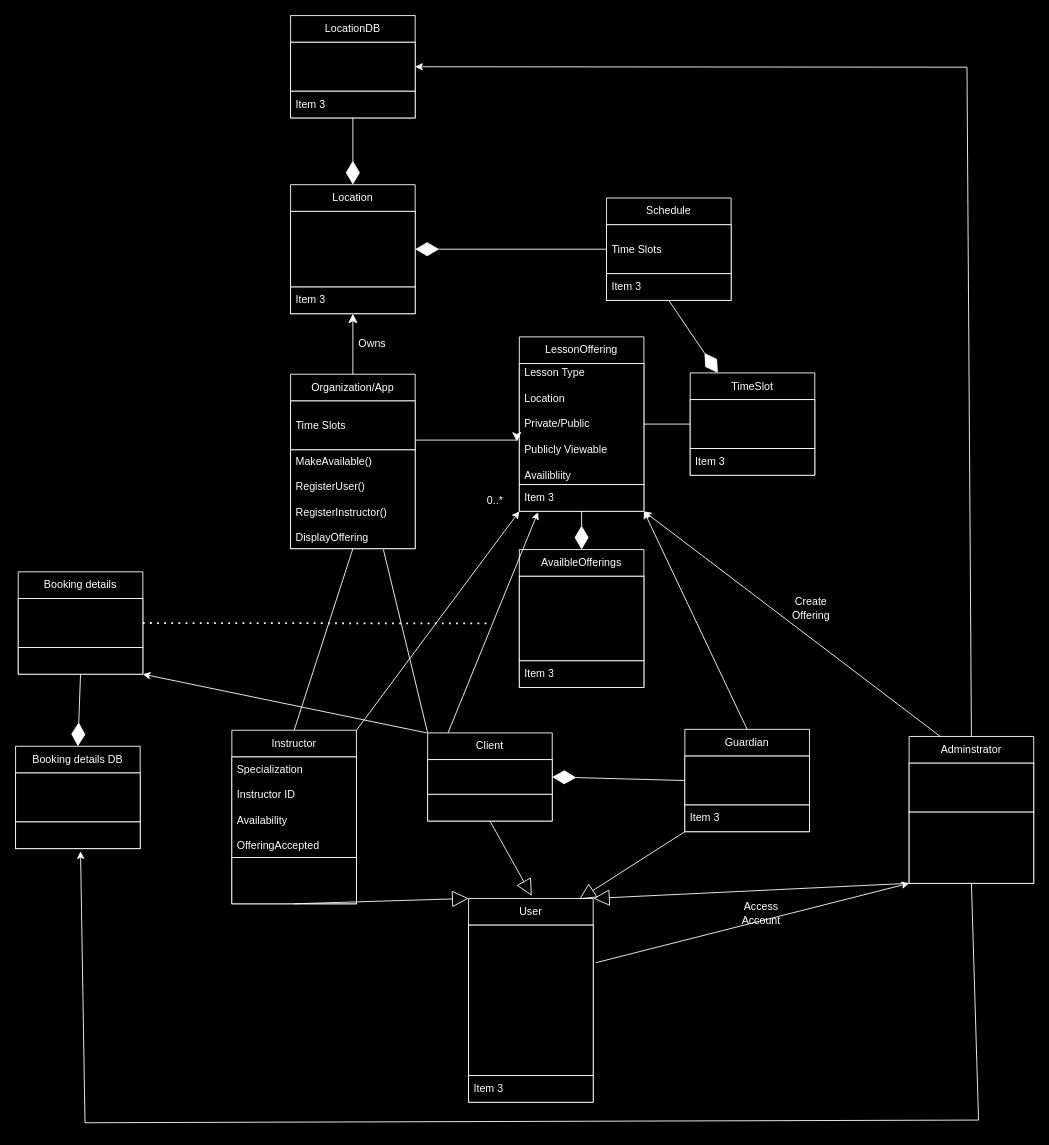
The diagram is 1049 pixels wide and 1145 high, and some of its shapes have lost their labels. The centre of each missing label's shape, as x and y in pixels:
AcceptOffering() MakeAvailible(): (x=293, y=880)
Address Location Type Scheduale: (x=352, y=248)
Administrator ID: (x=971, y=787)
Bookings: (x=77, y=797)
BookOffering(): (x=489, y=807)
Client ID: (x=489, y=776)
DeleteAccount() EditOffering() CreateOffering(): (x=971, y=847)
Information: (x=80, y=622)
Lesson Type Location Private/Public: (x=581, y=618)
Location Locations: (x=352, y=66)
Name: (x=746, y=780)
Start Time EndTime: (x=752, y=424)
Username Password Name Phone_number Age UserId: (x=530, y=1000)
